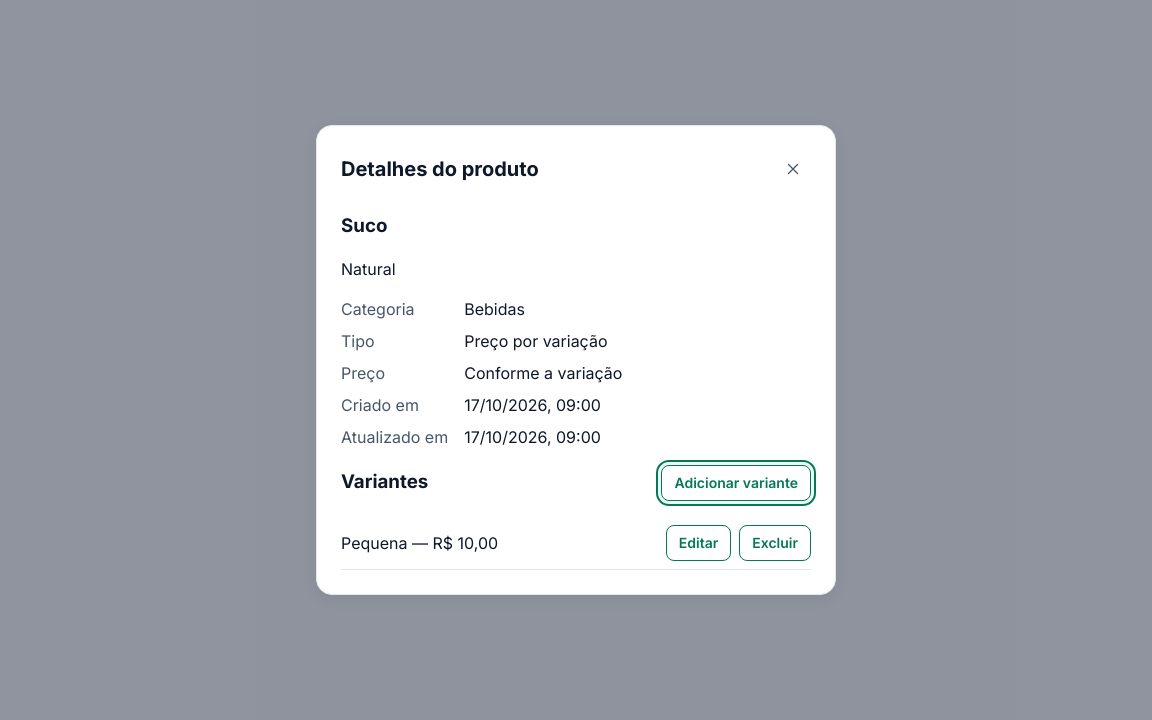
Test: variant edit modal › PATCHes only changed both and refreshes details/list
Click the button with aria-label "Editar variante Pequena" at x=699, y=542, box left=666, top=524, right=731, bottom=560
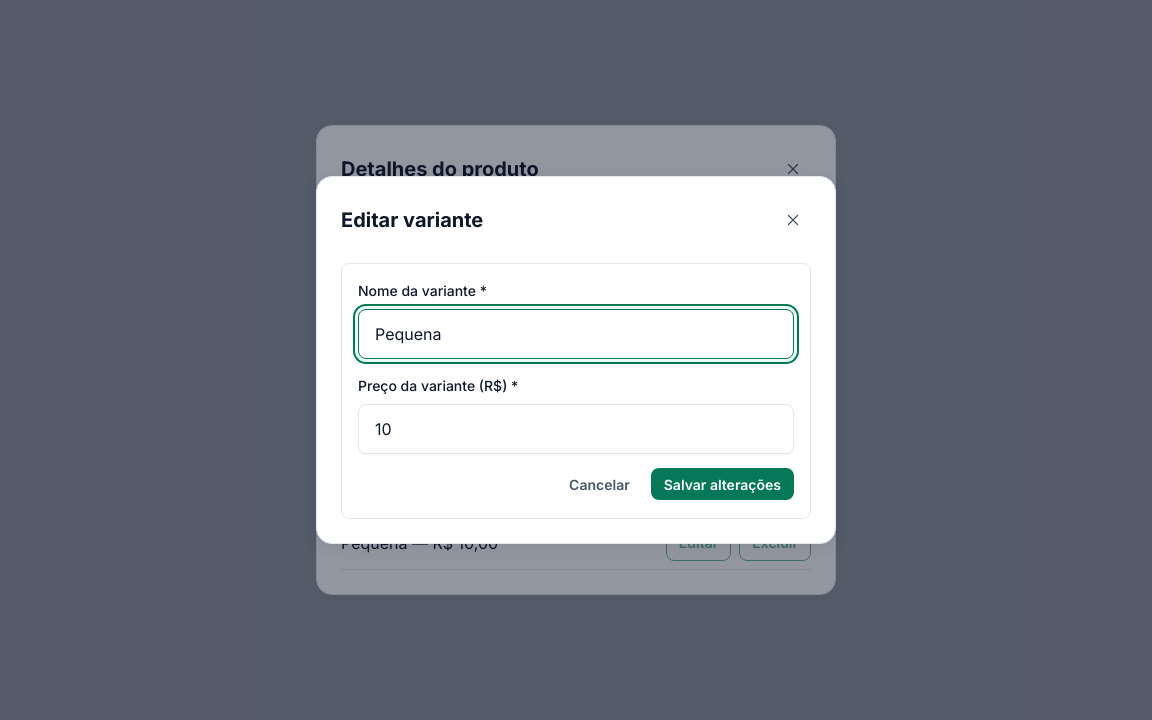
Replace the text in the field labelled "Nome da variante *" with "Grande" at x=576, y=334, box left=358, top=309, right=794, bottom=359
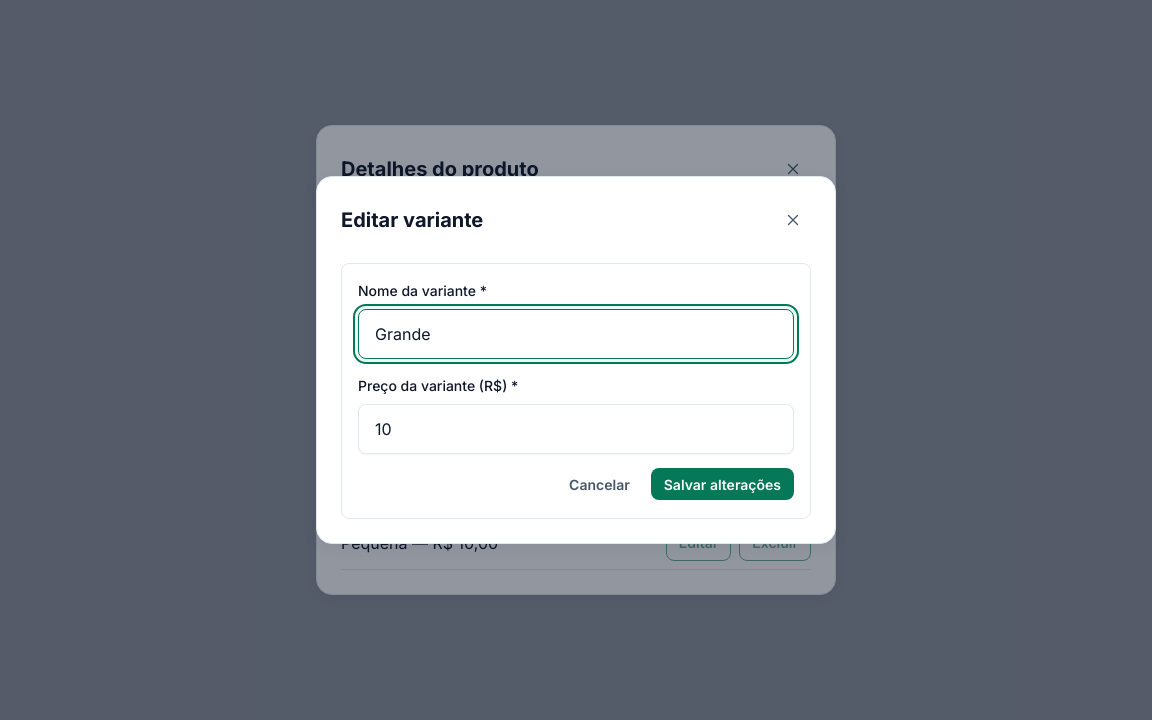
Replace the text in the field labelled "Preço da variante (R$) *" with "45,50" at x=576, y=429, box left=358, top=404, right=794, bottom=454
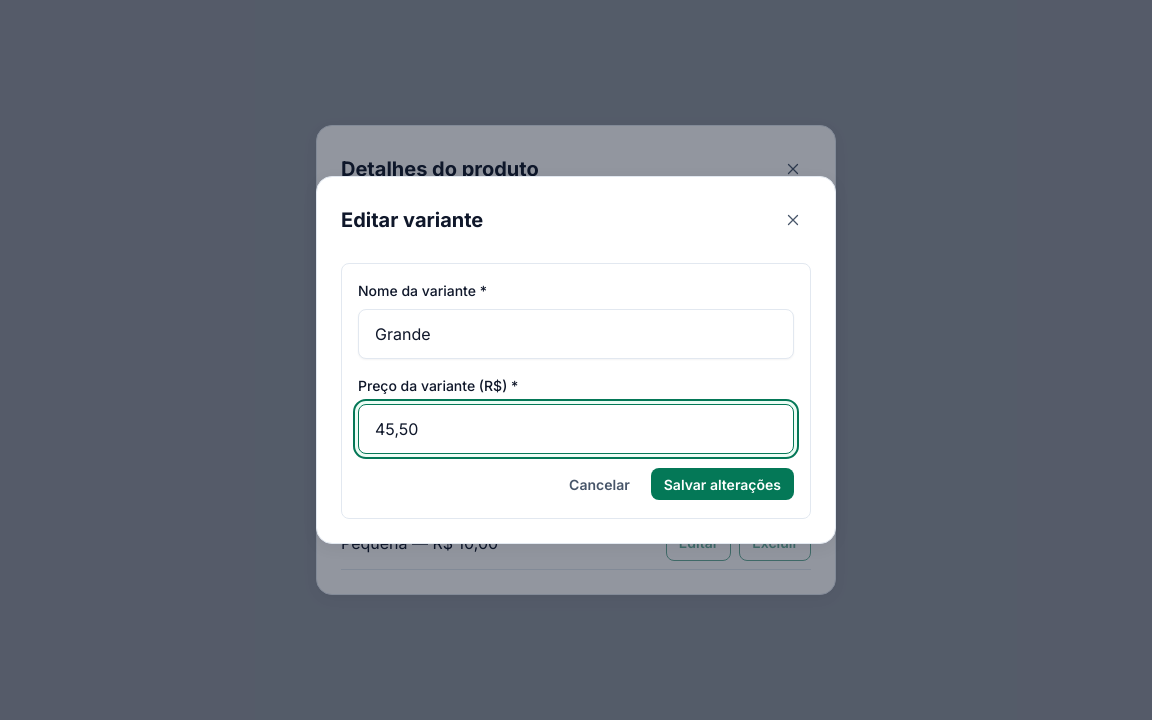
Click the button "Salvar alterações" at x=722, y=484, box left=651, top=468, right=794, bottom=500
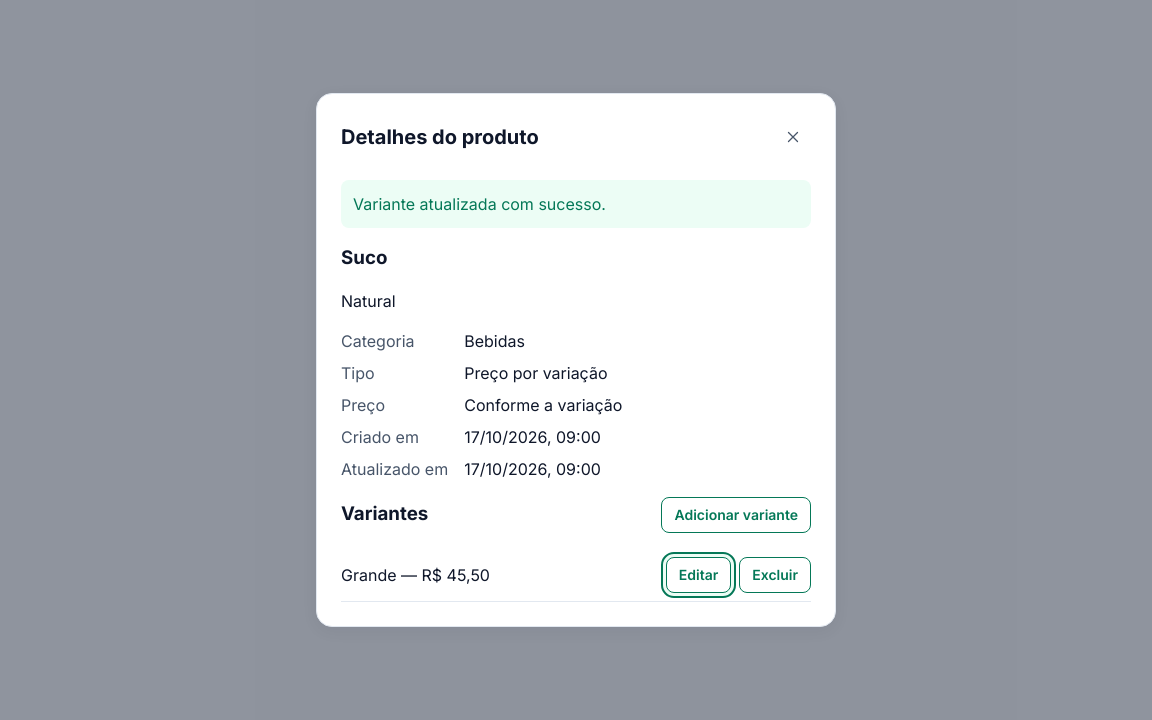
Expected: the text "Variante atualizada com sucesso." is shown, left=341, top=180, right=811, bottom=228
Expected: the heading "Editar variante" is gone
